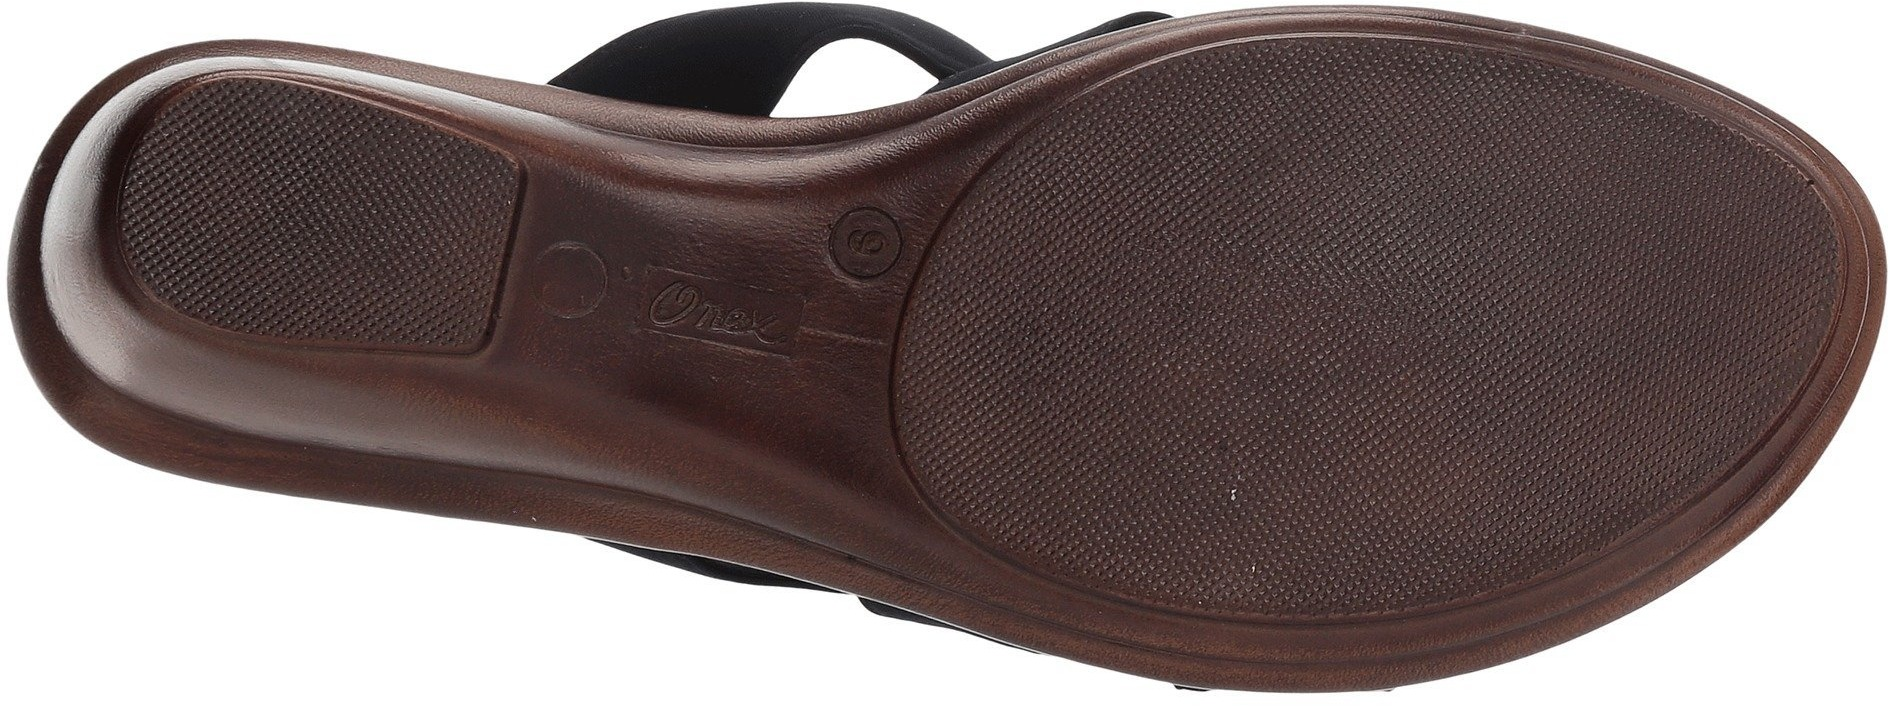circle: (820, 194, 912, 296)
other: (1209, 76, 1505, 367), (953, 234, 1207, 494), (1513, 173, 1765, 425), (1209, 372, 1451, 598), (162, 110, 372, 313), (1458, 434, 1600, 555), (385, 181, 497, 292)
quad: (622, 237, 821, 380)
text: (622, 237, 821, 380), (820, 194, 912, 296), (657, 280, 730, 361), (730, 294, 783, 361), (843, 214, 893, 259)
